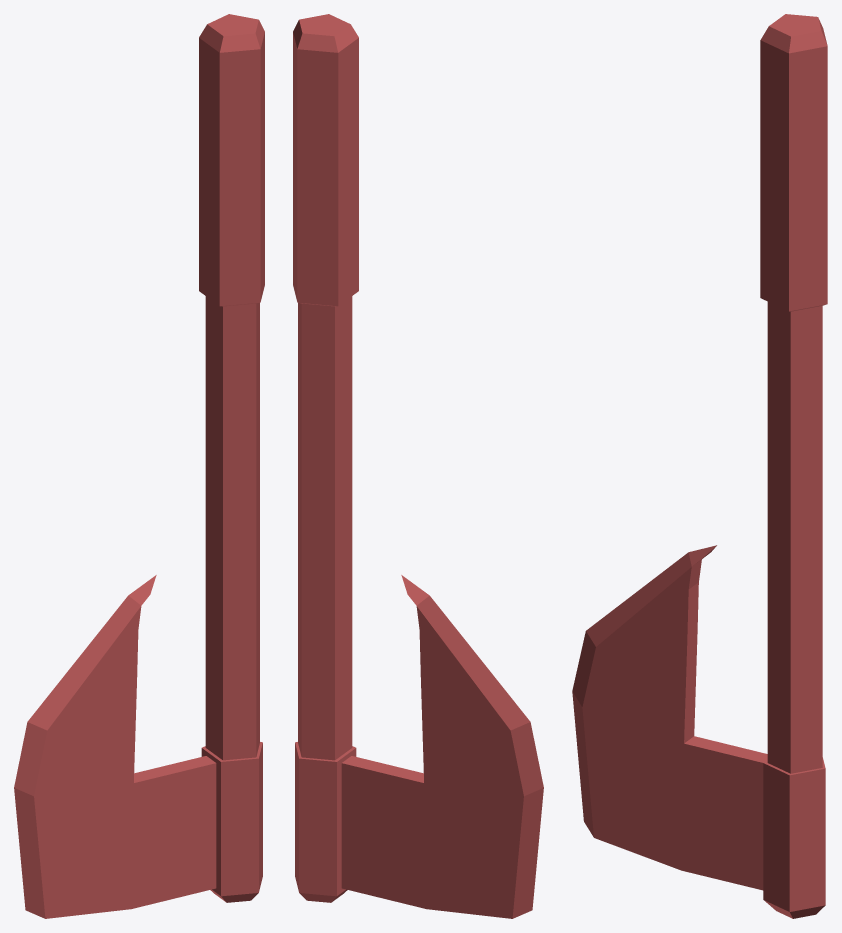
Rendered from hache.fbx.
The picture shows the model from 3 angles, left to right: view 1: azimuth 30°, elevation 25°; view 2: azimuth 150°, elevation 25°; view 3: azimuth 330°, elevation 25°; orthographic projection.
Parts seen in each view (by area): view 1: hache; view 2: hache; view 3: hache.
Part boxes in pixels (box(x1,y1,x2,y2)): hache: box(14, 14, 264, 918); hache: box(293, 14, 543, 918); hache: box(572, 14, 827, 918).
Size of the model in its own units: 0.3091 by 1.02 by 0.072.
